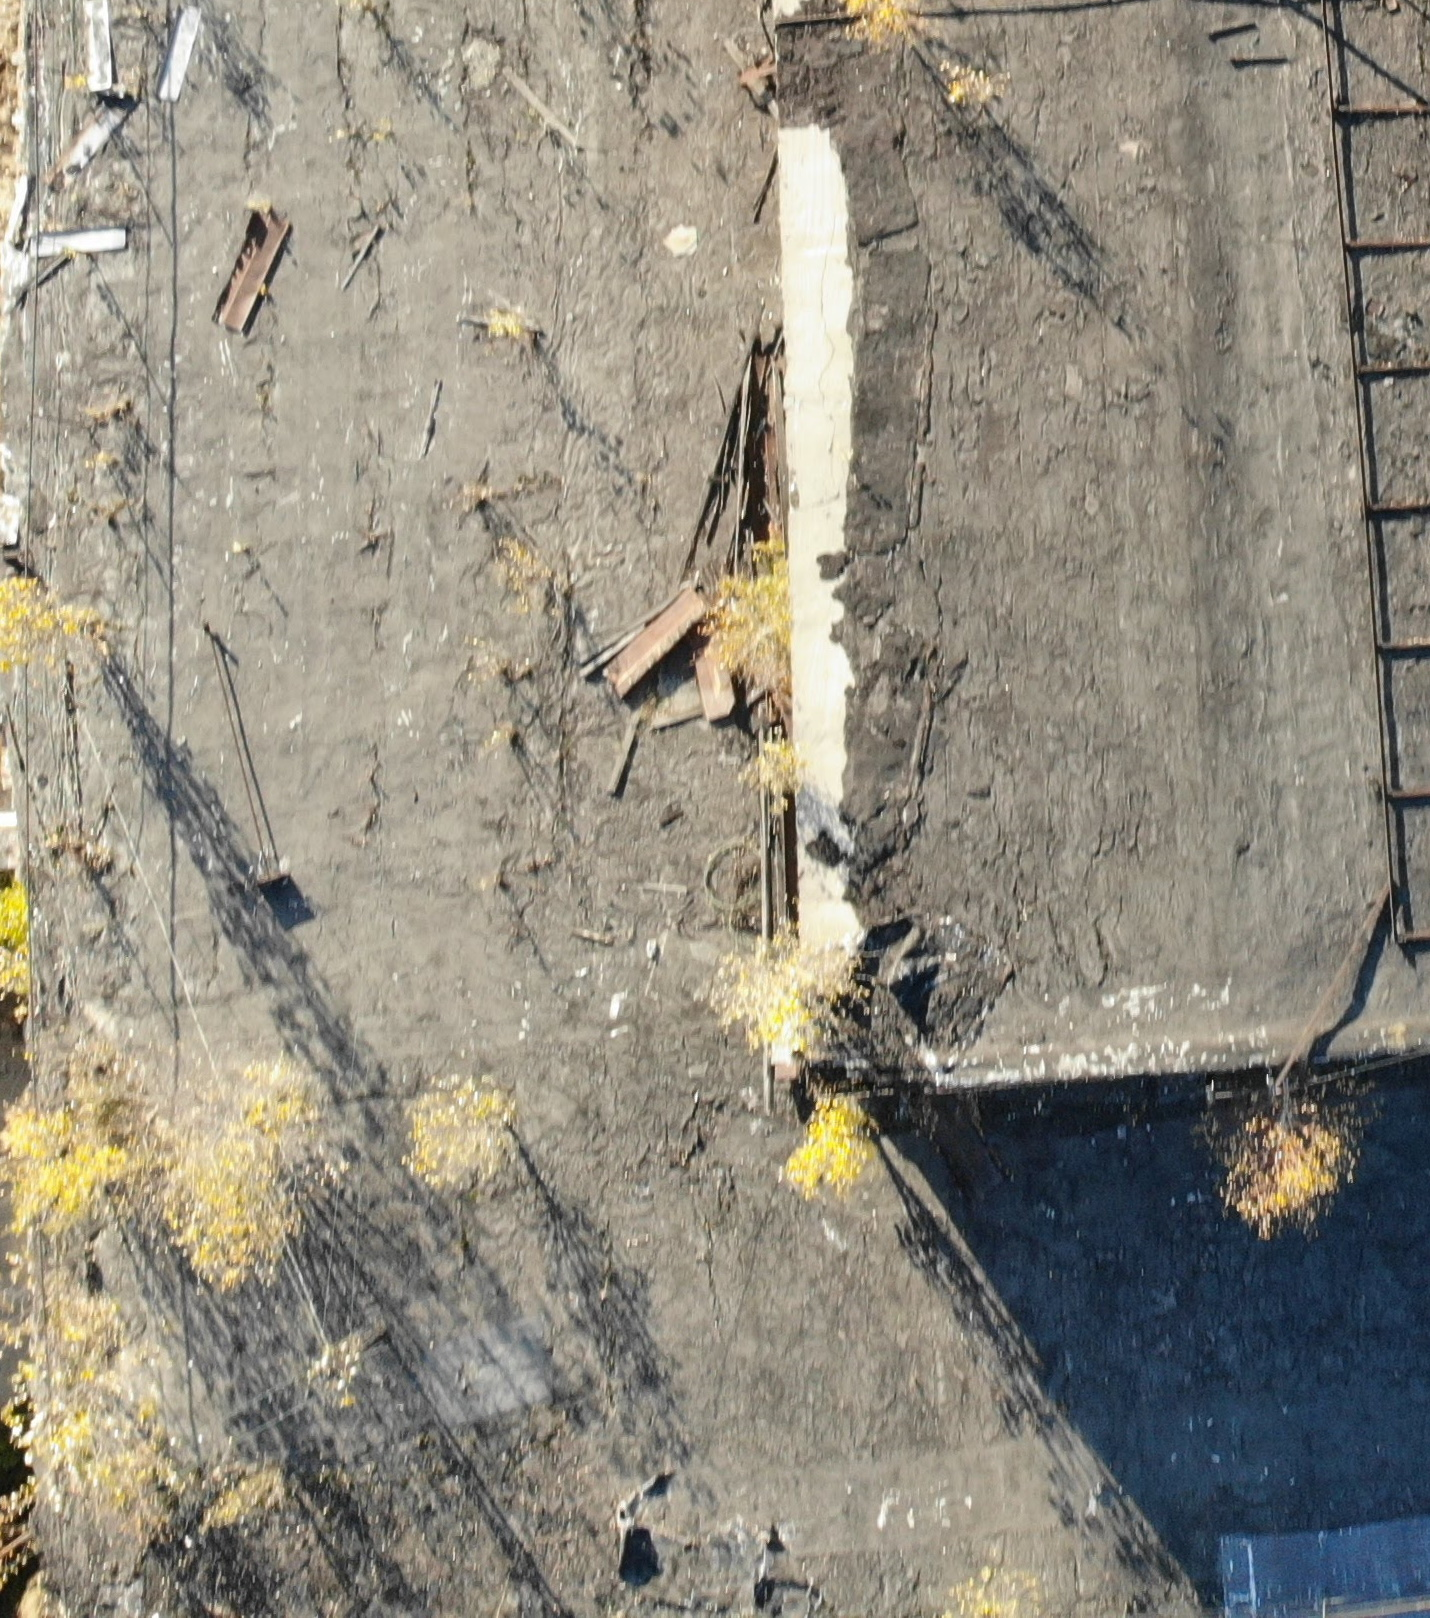tree: (17, 1307, 287, 1566), (174, 1027, 355, 1303), (1171, 1041, 1365, 1267), (685, 522, 830, 812), (689, 874, 882, 1069), (11, 1041, 137, 1289), (765, 1035, 925, 1227), (384, 1033, 542, 1220)
